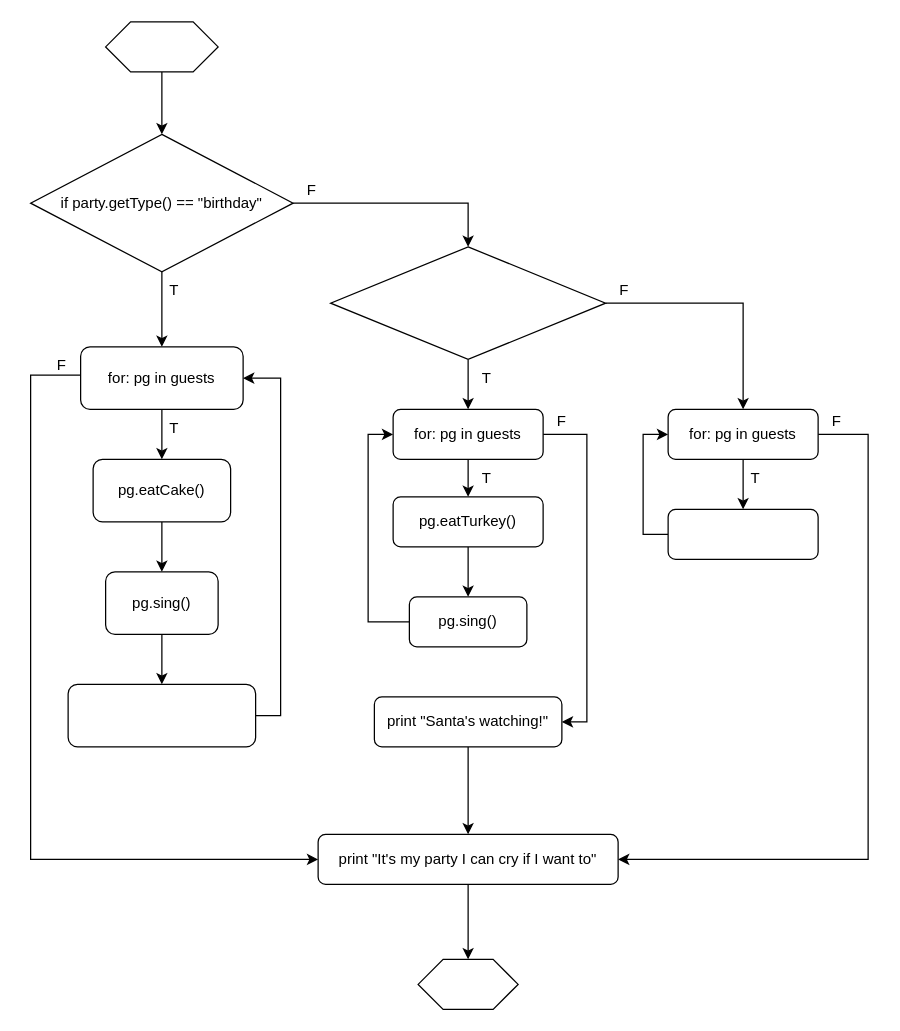
The diagram is 900 pixels wide and 1031 high, and some of its shapes have lost their labels. Each missing label, with the centre of its shape:
end: [467,983]
if party.getType() == "Christmas": [467,302]
pg.haveDrinks(): [742,533]
prinit "Happy Birthday!": [161,715]
Start: [161,46]
